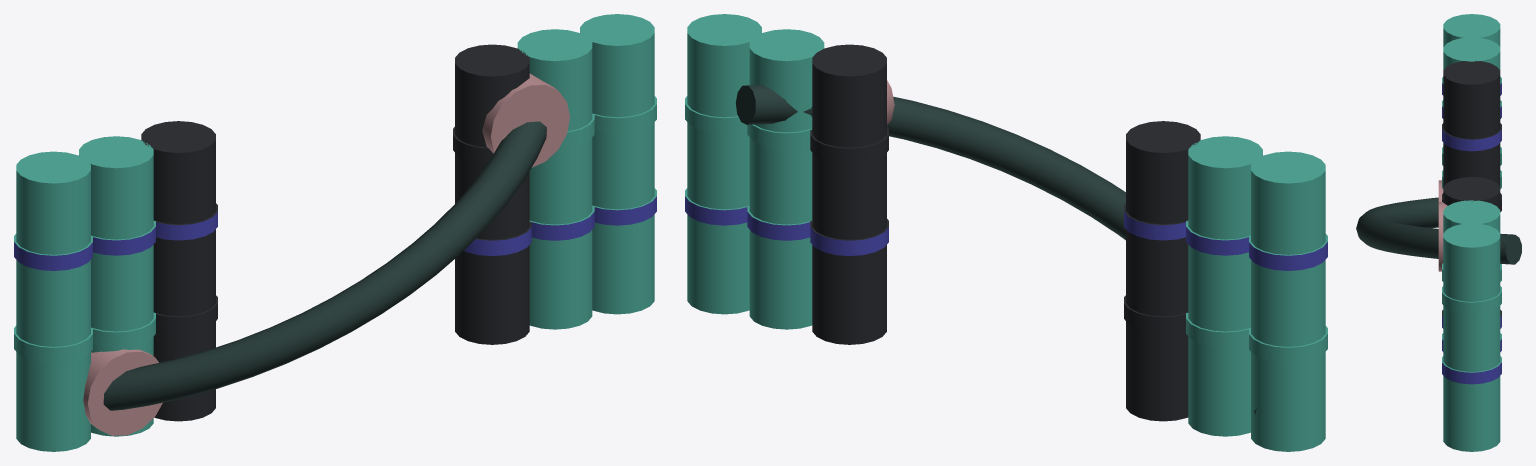
Rendered from truc au mur 2.fbx.
3 renders of one model, left to right at view 1: azimuth 30°, elevation 25°; view 2: azimuth 150°, elevation 25°; view 3: azimuth 270°, elevation 25°, orthographic. The views are drawn at different scales.
Parts seen in each view (by area): view 1: Cylinder025; view 2: Cylinder025; view 3: Cylinder025.
Boxes of the visible parts, box(x1,y1,x2,y2) form: Cylinder025: box(14, 14, 656, 451); Cylinder025: box(685, 14, 1327, 451); Cylinder025: box(1356, 14, 1521, 451).
Size of the model in its own units: 341 by 138 by 102.
